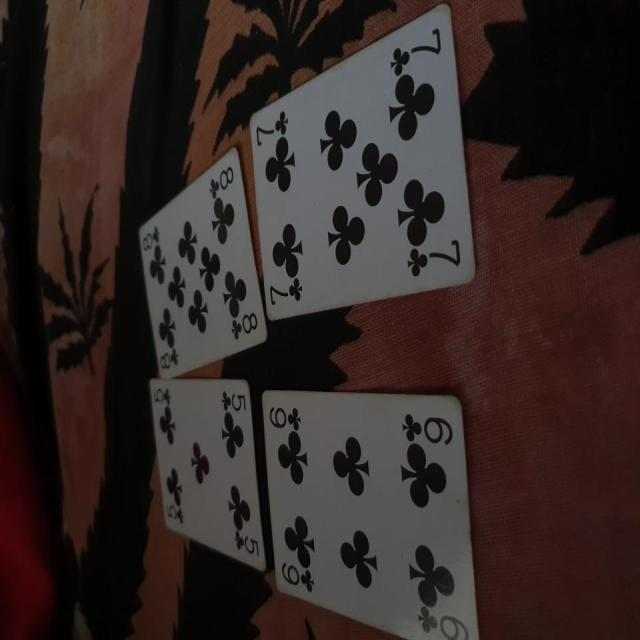5 of clubs: (148, 375, 269, 574)
6 of clubs: (260, 384, 477, 638)
7 of clubs: (246, 1, 480, 322)
8 of clubs: (137, 146, 269, 378)
